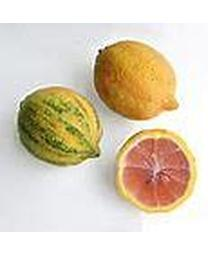lemon: (114, 129, 196, 214), (93, 41, 178, 121), (19, 88, 103, 168)
